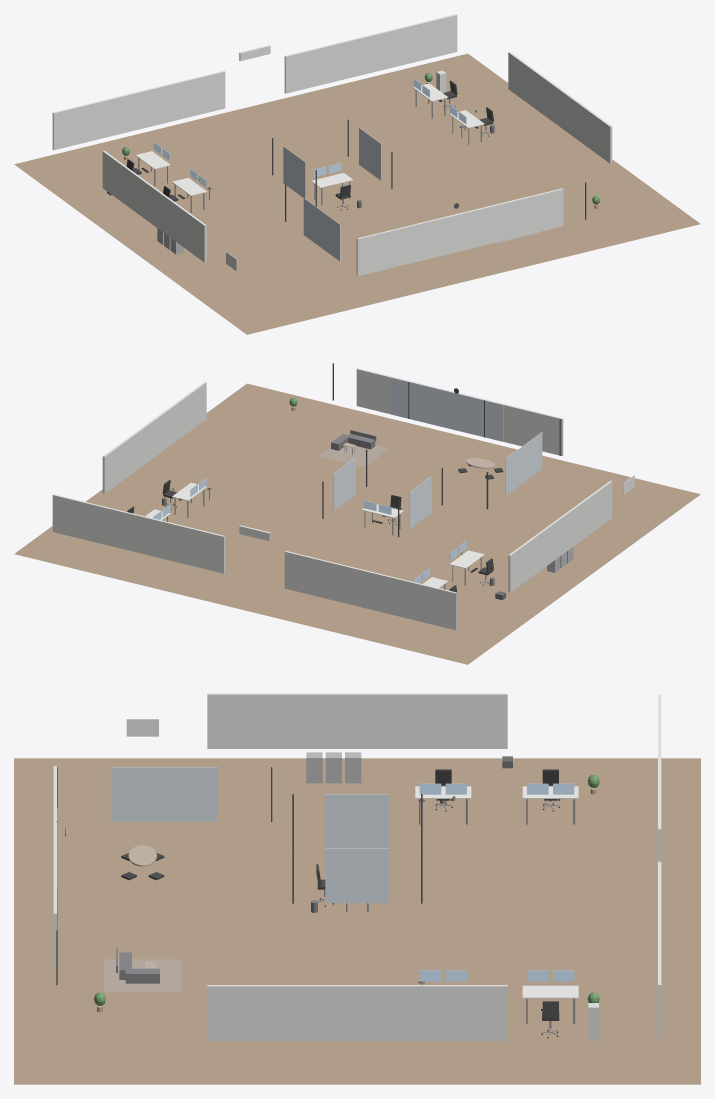
Rendered from office_v16.glb.
The picture shows the model from 3 angles, top to bottom: view 1: azimuth 30°, elevation 25°; view 2: azimuth 150°, elevation 25°; view 3: azimuth 270°, elevation 25°; orthographic projection. The views are drawn at different scales.
Parts seen in each view (by area): view 1: Plane, Cube, Cube.001, Cube.002, Cube.004, Cube.005, Cube.013, Cube.007, Cube.008; view 2: Plane, Cube.002, Cube.001, Cube.014, Cube.004, Cube.005, Cube, Cube.013, Cube.008, Cube.007, Plane.001; view 3: Plane, Cube.004, Cube.005, Cube.013, Cube.006, Cube.008, Cube.007, Plane.001, Cube, Cube.078, Cube.002.
Part boxes in pixels (x1=…): Plane: x1=14, y1=53, x2=700, y2=334; Cube: x1=356, y1=188, x2=563, y2=275; Cube.001: x1=52, y1=71, x2=225, y2=150; Cube.002: x1=284, y1=14, x2=457, y2=93; Cube.004: x1=102, y1=150, x2=206, y2=262; Cube.005: x1=508, y1=52, x2=612, y2=163; Cube.013: x1=303, y1=198, x2=340, y2=261; Cube.007: x1=283, y1=146, x2=305, y2=198; Cube.008: x1=359, y1=127, x2=381, y2=180; Plane: x1=14, y1=383, x2=700, y2=664; Cube.002: x1=52, y1=494, x2=225, y2=573; Cube.001: x1=284, y1=551, x2=457, y2=630; Cube.014: x1=390, y1=377, x2=503, y2=441; Cube.004: x1=508, y1=480, x2=612, y2=592; Cube.005: x1=102, y1=382, x2=206, y2=493; Cube: x1=356, y1=368, x2=563, y2=455; Cube.013: x1=505, y1=432, x2=542, y2=495; Cube.008: x1=333, y1=457, x2=355, y2=510; Cube.007: x1=409, y1=476, x2=431, y2=528; Plane.001: x1=319, y1=444, x2=389, y2=466; Plane: x1=14, y1=758, x2=700, y2=1084; Cube.004: x1=207, y1=693, x2=507, y2=748; Cube.005: x1=207, y1=985, x2=507, y2=1040; Cube.013: x1=110, y1=767, x2=217, y2=821; Cube.006: x1=250, y1=989, x2=464, y2=1037; Cube.008: x1=325, y1=848, x2=389, y2=903; Cube.007: x1=325, y1=794, x2=389, y2=848; Plane.001: x1=104, y1=959, x2=181, y2=991; Cube: x1=53, y1=766, x2=56, y2=968; Cube.078: x1=522, y1=985, x2=578, y2=998; Cube.002: x1=658, y1=861, x2=661, y2=1039.
Size of the model in its own units: 18 by 2.65 by 16.
